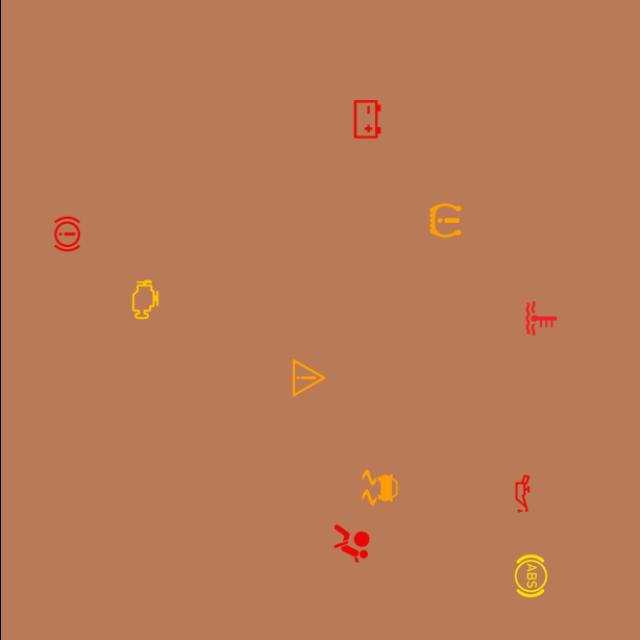Anti Lock Braking System: (506, 552, 554, 600)
Braking System Issue: (42, 210, 90, 258)
Charging System Issue: (343, 96, 390, 143)
Check Engine: (121, 276, 168, 323)
Electronic Stability Problem -ESP-: (356, 464, 402, 511)
Engine Overheating Warning Light: (517, 295, 564, 342)
Low Engine Oil Warning Light: (498, 470, 545, 517)
Low Tire Pressure Warning Light: (421, 197, 468, 244)
Master warning light: (284, 354, 332, 402)
SRS-Airbag: (327, 520, 374, 567)
